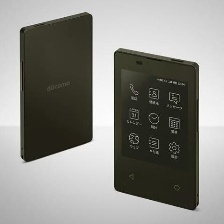phone: (110, 44, 202, 213), (15, 6, 95, 164)
